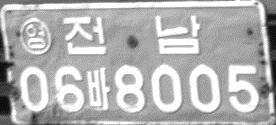0: (187, 63, 221, 114), (150, 63, 182, 113), (19, 65, 49, 113)
5: (226, 63, 260, 114)
6: (54, 65, 84, 112)
8: (113, 63, 145, 114)
바: (85, 66, 111, 110)
영: (19, 17, 52, 55)
전남_D: (62, 14, 201, 56)
